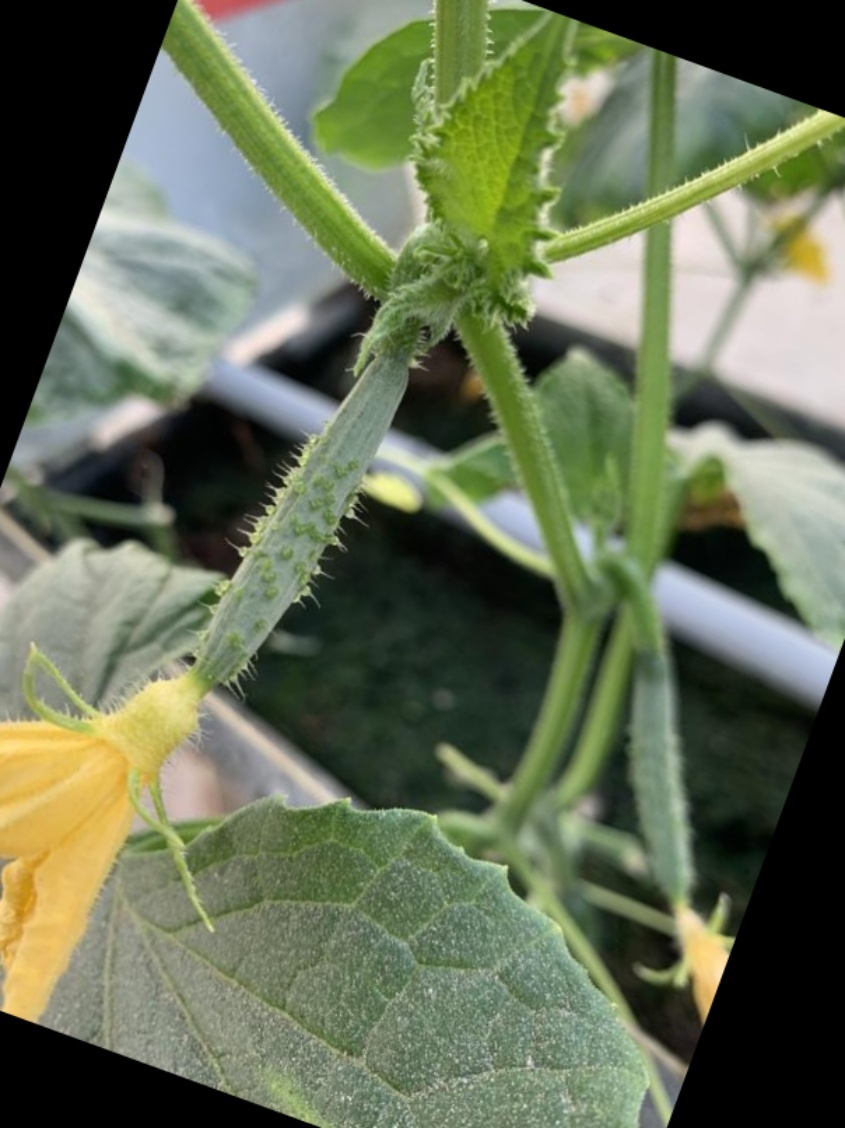bear: (7, 341, 418, 948)
